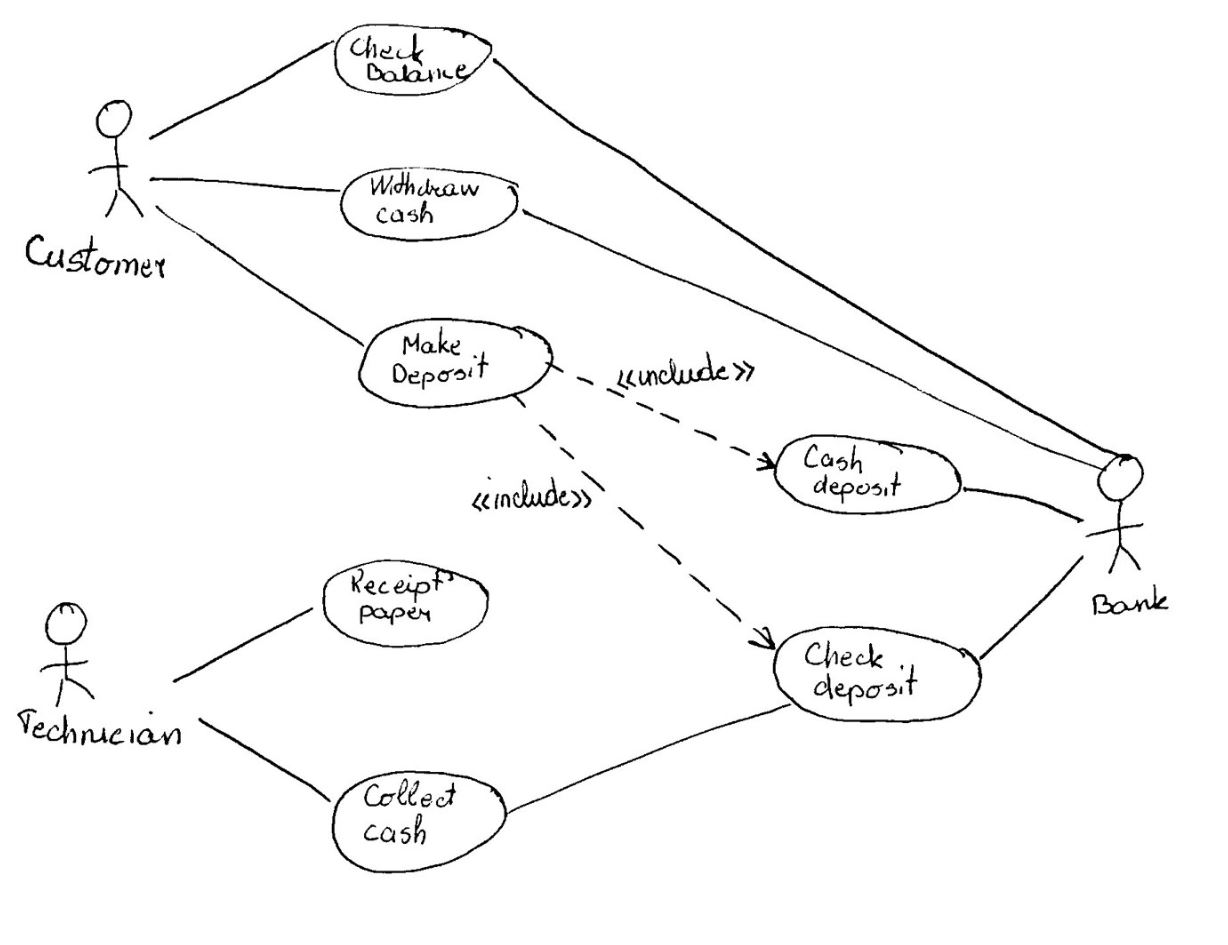actor: (32, 600, 115, 707), (1094, 450, 1154, 577), (90, 96, 144, 226)
association: (492, 55, 1111, 455), (522, 207, 1098, 468), (515, 394, 780, 654), (506, 700, 792, 815), (156, 204, 362, 346), (551, 364, 777, 474), (144, 37, 335, 142), (975, 551, 1087, 661), (196, 717, 333, 804), (173, 602, 316, 684), (148, 168, 345, 200), (961, 481, 1086, 526)
text: (18, 706, 198, 758), (798, 639, 929, 709), (23, 233, 176, 286), (348, 30, 485, 86), (359, 781, 460, 847), (346, 566, 454, 627), (365, 172, 488, 224), (801, 442, 907, 502), (385, 332, 494, 390), (612, 353, 762, 390), (467, 476, 592, 519), (1094, 584, 1171, 624)
use_case: (775, 625, 983, 724), (332, 772, 505, 873), (360, 320, 552, 408), (773, 433, 960, 515), (323, 558, 490, 649), (341, 166, 519, 242), (332, 21, 493, 97)
